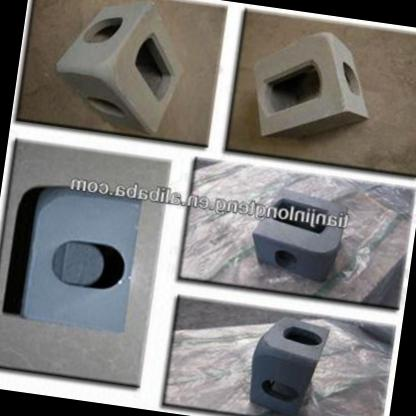CornerCasting: (47, 0, 194, 139), (17, 182, 146, 338), (237, 22, 383, 154), (242, 182, 352, 284), (240, 309, 333, 415)
